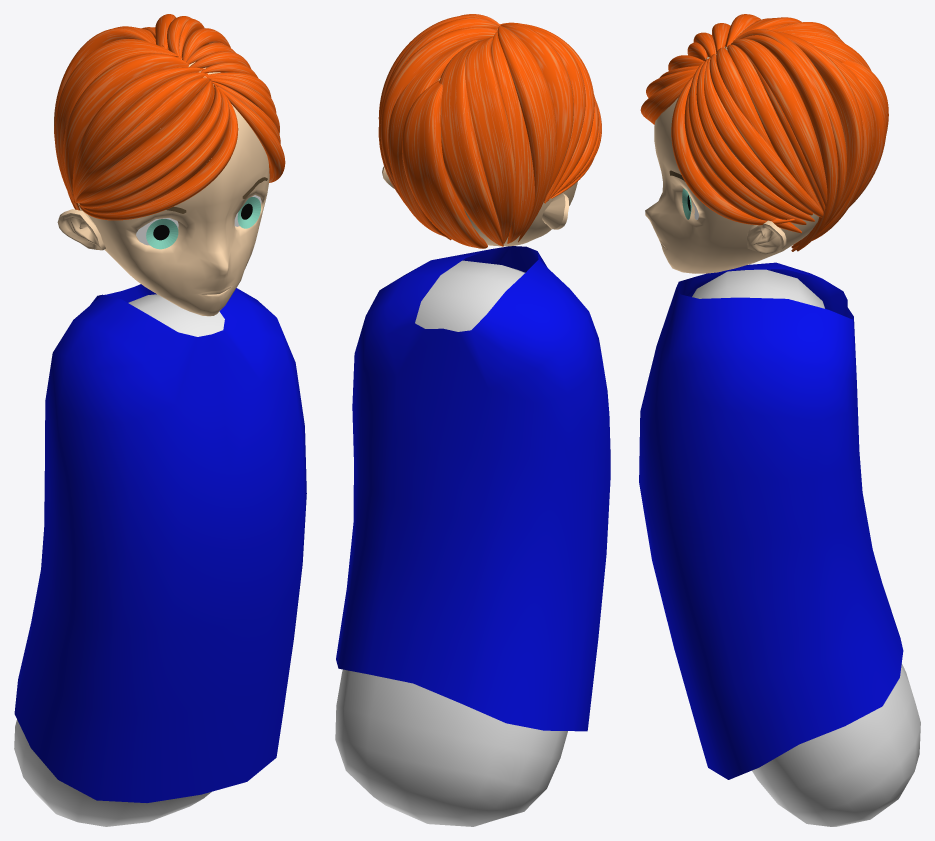
Rendered from Main NPC 6.fbx.
3 views of the same model, side by side, from view 1: azimuth 30°, elevation 25°; view 2: azimuth 150°, elevation 25°; view 3: azimuth 270°, elevation 25° (orthographic). The views are drawn at different scales.
Visible parts, largest first — view 1: T-shirt.006, NurbsPath.137, Head with ears.006, body.006; view 2: T-shirt.006, NurbsPath.137, body.006, Head with ears.006; view 3: T-shirt.006, NurbsPath.137, body.006, Head with ears.006.
Part boxes in pixels (left/top/right/bottom): T-shirt.006: left=14, top=284, right=306, bottom=802; NurbsPath.137: left=54, top=14, right=285, bottom=220; Head with ears.006: left=57, top=59, right=269, bottom=316; body.006: left=14, top=294, right=224, bottom=826; T-shirt.006: left=336, top=246, right=610, bottom=731; NurbsPath.137: left=378, top=14, right=601, bottom=248; body.006: left=335, top=260, right=567, bottom=826; Head with ears.006: left=382, top=29, right=577, bottom=246; T-shirt.006: left=639, top=262, right=903, bottom=779; NurbsPath.137: left=640, top=14, right=888, bottom=251; body.006: left=692, top=269, right=920, bottom=826; Head with ears.006: left=645, top=46, right=818, bottom=273.
Bounding box in the file's own units: 2.68 × 8.84 × 2.87.
Materials: 7 (1 with a texture image).
